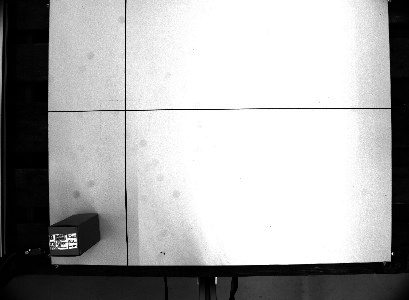b2: (46, 210, 103, 258)
